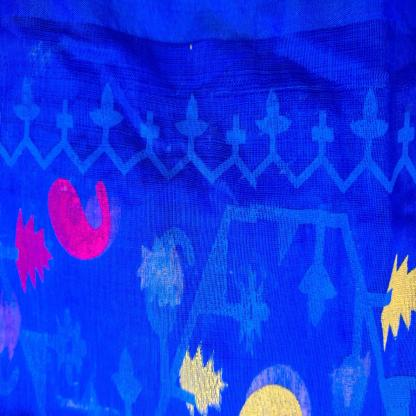spot: (132, 231, 186, 308), (28, 42, 54, 70), (189, 44, 194, 50)
